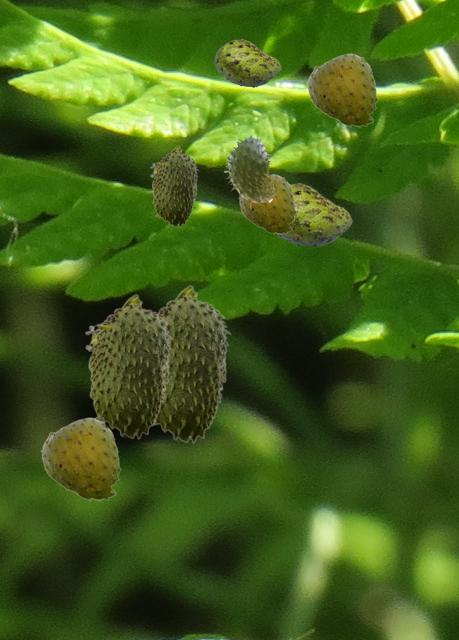guyabano: (85, 293, 172, 438), (155, 284, 230, 442), (40, 417, 120, 501), (306, 53, 377, 127), (276, 183, 351, 246), (224, 134, 277, 208), (150, 145, 198, 226), (239, 174, 295, 234), (214, 39, 280, 86)
